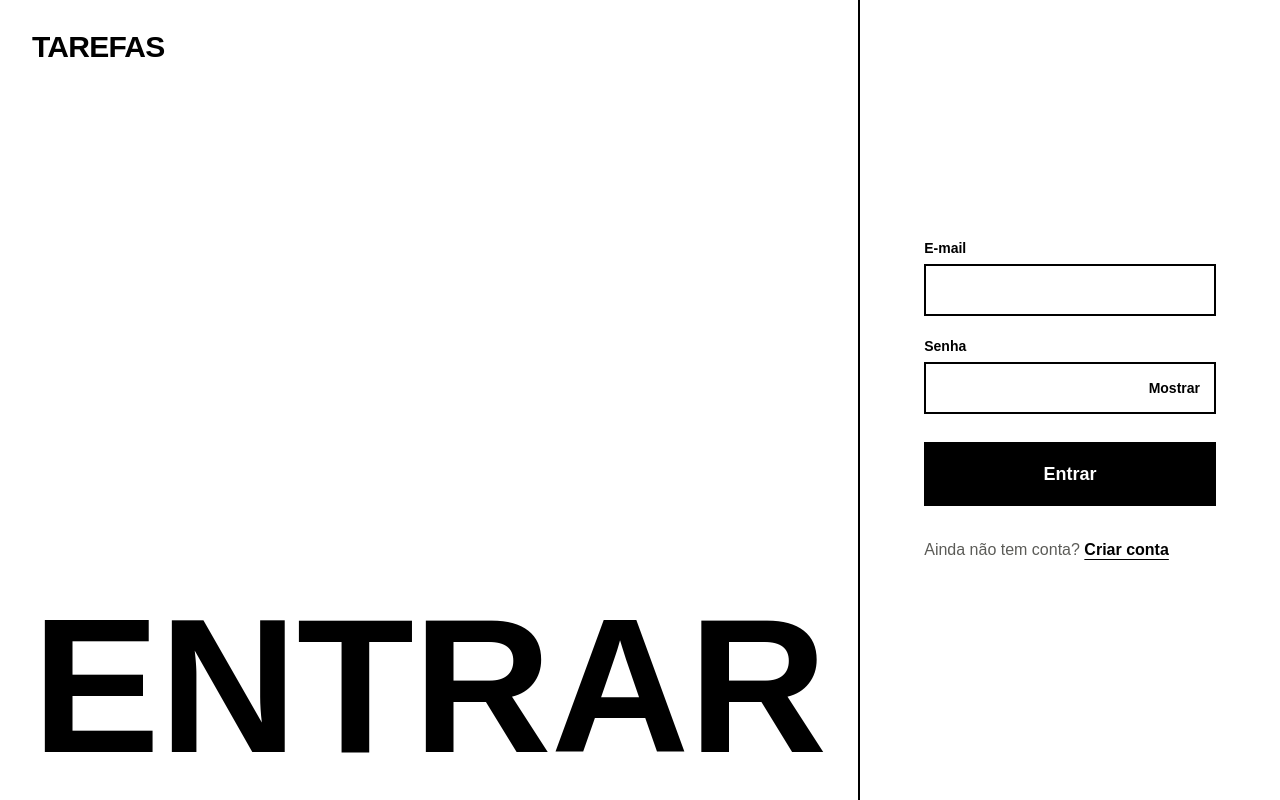
Test case: campo de senha › mostra e esconde o que foi digitado
Type "segredo123" into the password field labelled "Senha". click: (1070, 388)
box: [924, 362, 1216, 414]
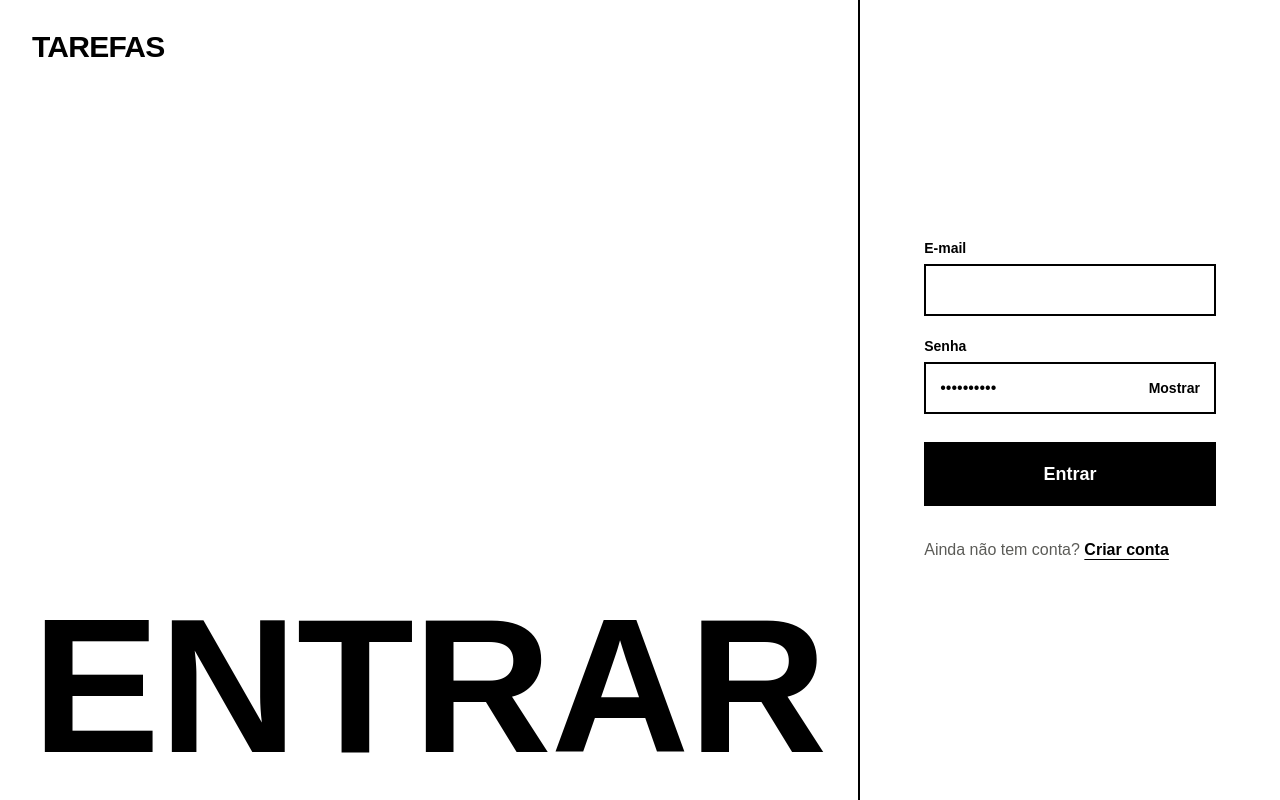
Click the button with aria-label "Mostrar senha". click: (1174, 388)
box: [1133, 362, 1216, 414]
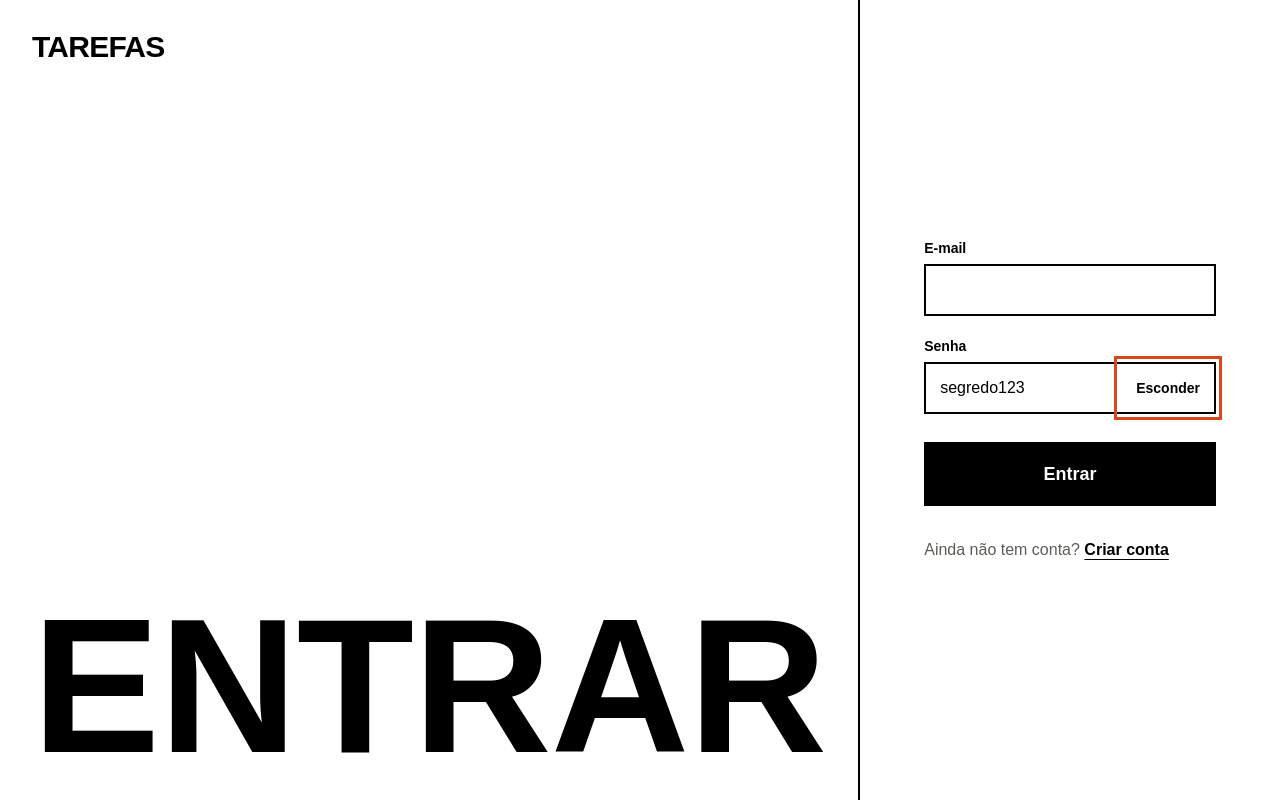
Result: the field labelled "Senha" shows its text at [924, 362, 1216, 414]
Click the button with aria-label "Esconder senha". click: (1168, 388)
box: [1120, 362, 1216, 414]
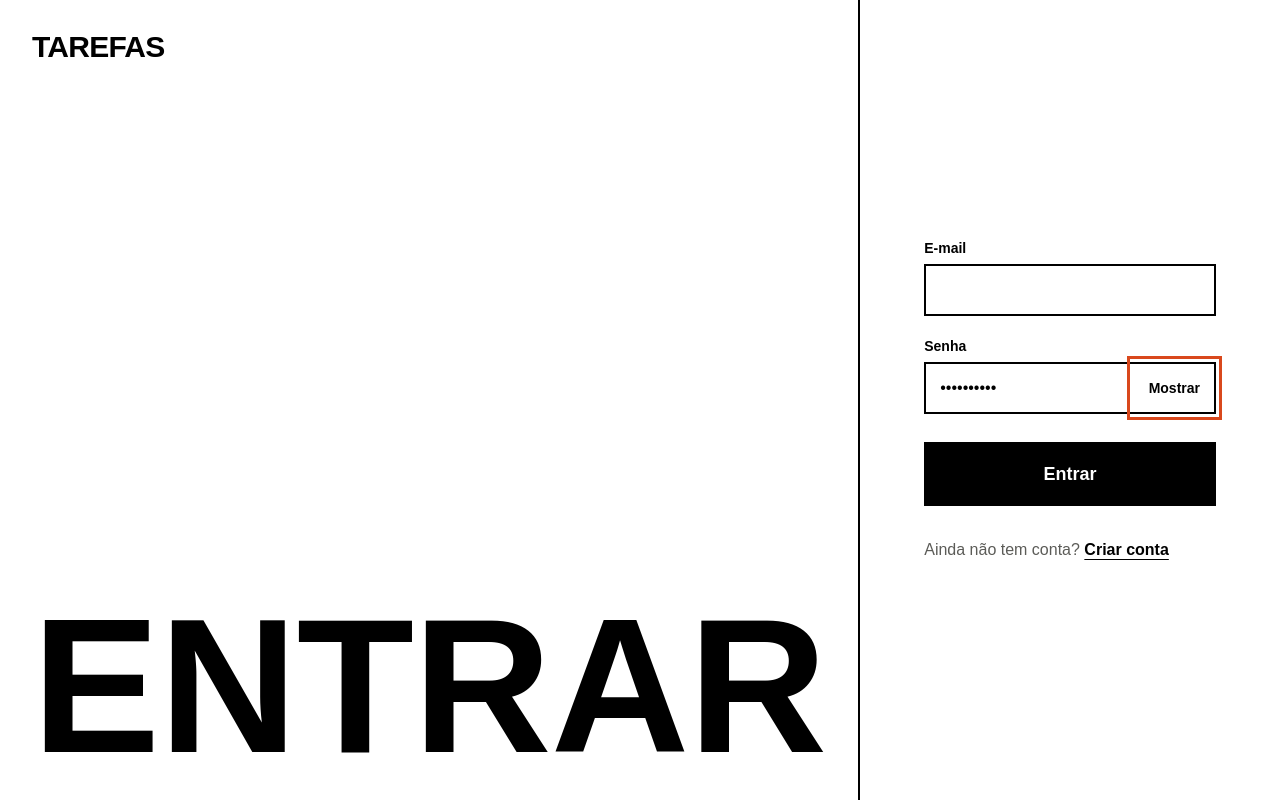
Result: the password field labelled "Senha" hides its text at [924, 362, 1216, 414]
